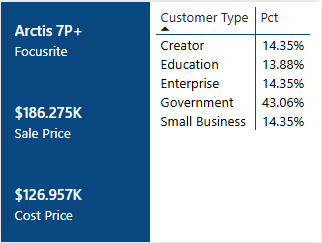

What the dashboard file says about the page in this screenshot:
{"tool":"powerbi","page":{"name":"Tooltip","canvas":[320,240],"ordinal":1},"visuals":[{"type":"cardVisual","fields":{"Data":["Min(public vw_sales.product)","Sum(public vw_sales.sale_price)","Sum(public vw_sales.cost_price)"]},"box":[0,0,148.8,240],"z":0},{"type":"tableEx","fields":{"Values":["public vw_sales.customer_type","CountNonNull(public vw_sales.customer_type)"]},"box":[148.8,0,171.2,240],"z":1000}]}

Visuals, with their boxes in screenshot pixels (x1, y1, x2, y2), scaled from the page's 320x240 canvas onto the 322x243 screenshot:
cardVisual - Min(public vw_sales.product) x Sum(public vw_sales.sale_price): (0, 0, 150, 242)
tableEx - public vw_sales.customer_type x CountNonNull(public vw_sales.customer_type): (150, 0, 321, 242)
